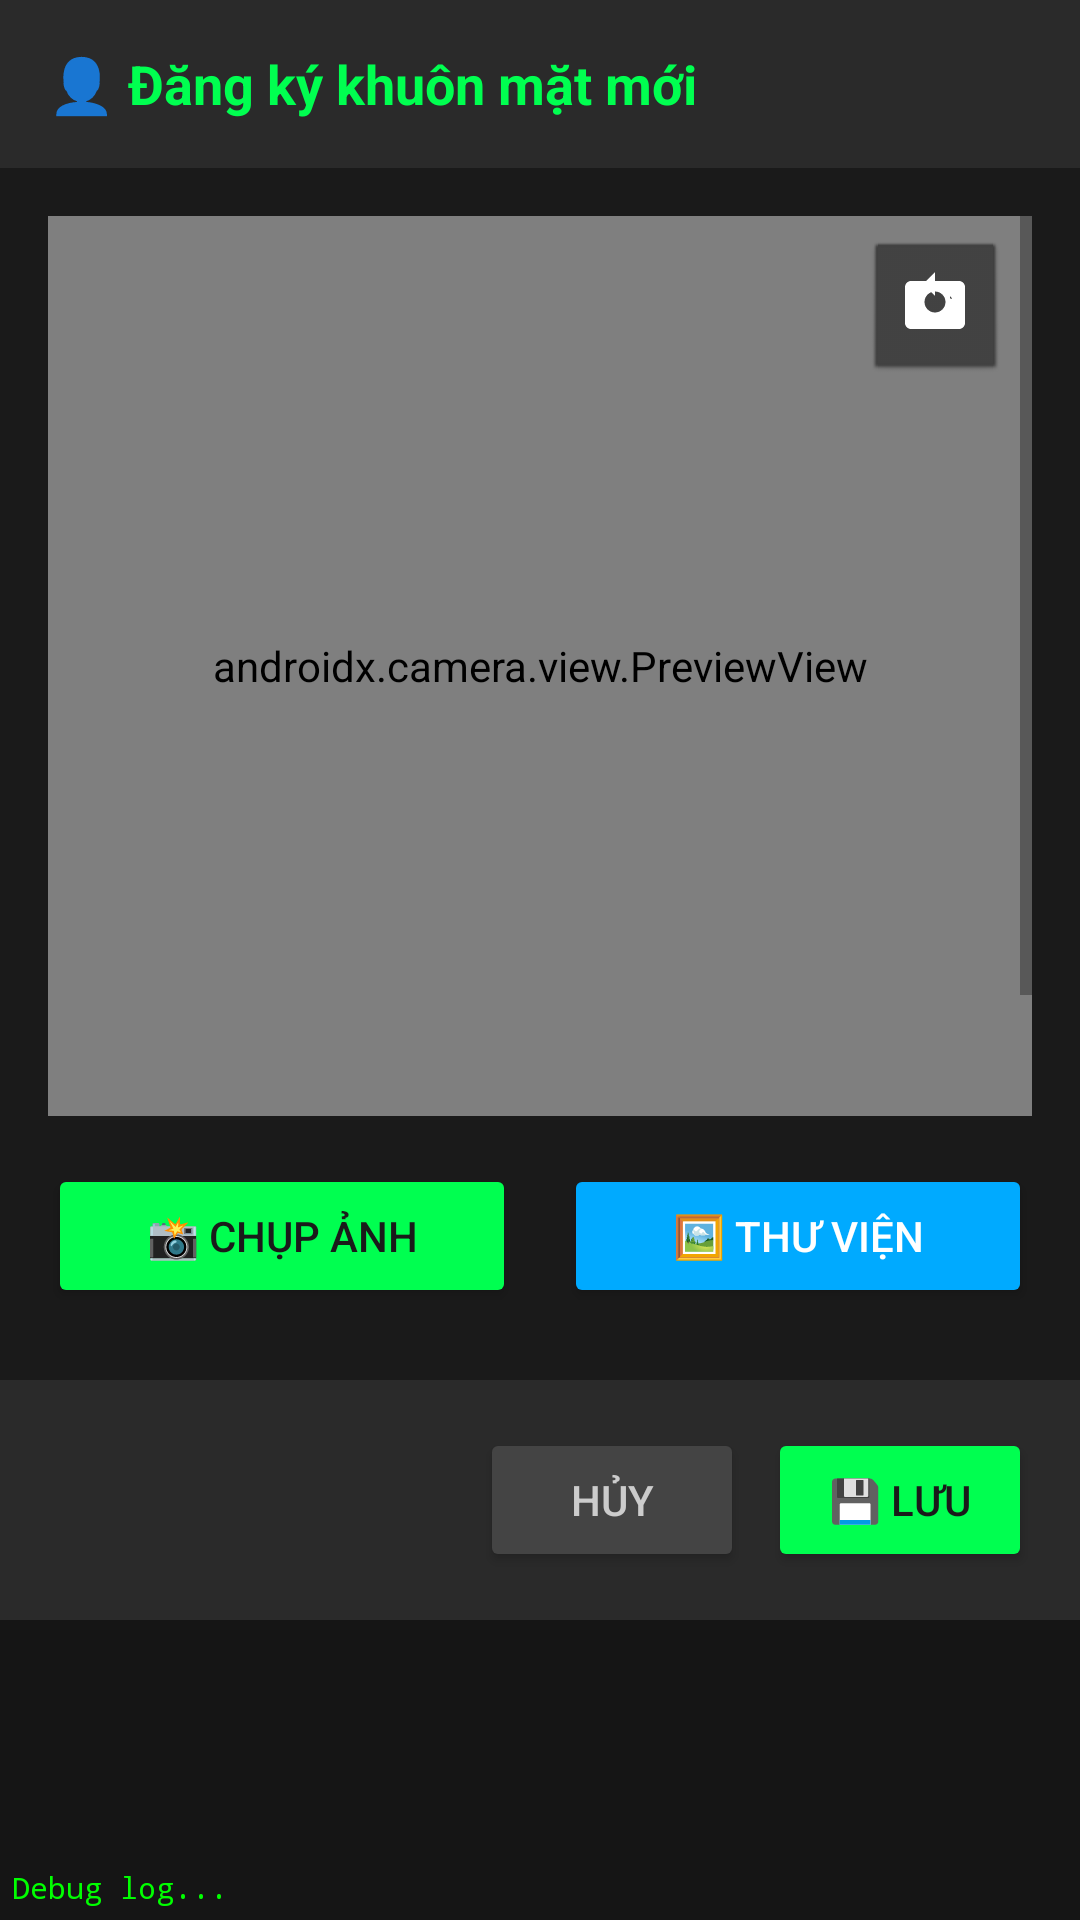

Icons on this 1080x1920 Android screen, each with its box as (x1, y1, x2, y2):
Chuyển camera: (874, 244, 996, 368)
